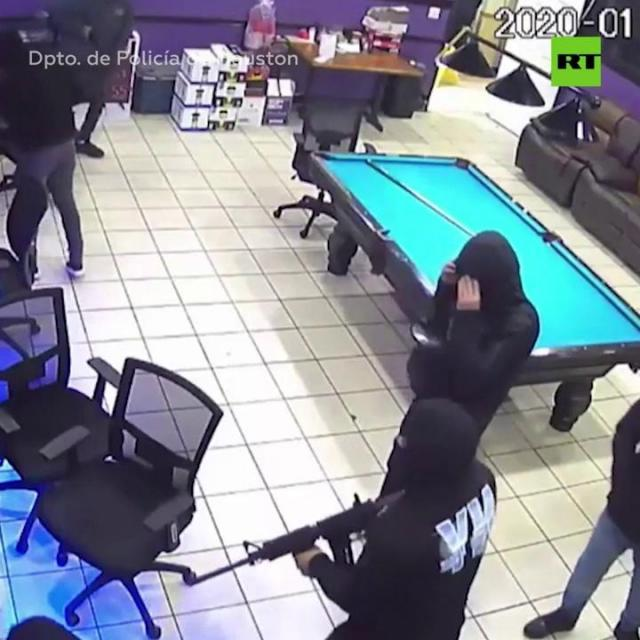weapon: (181, 482, 414, 597)
